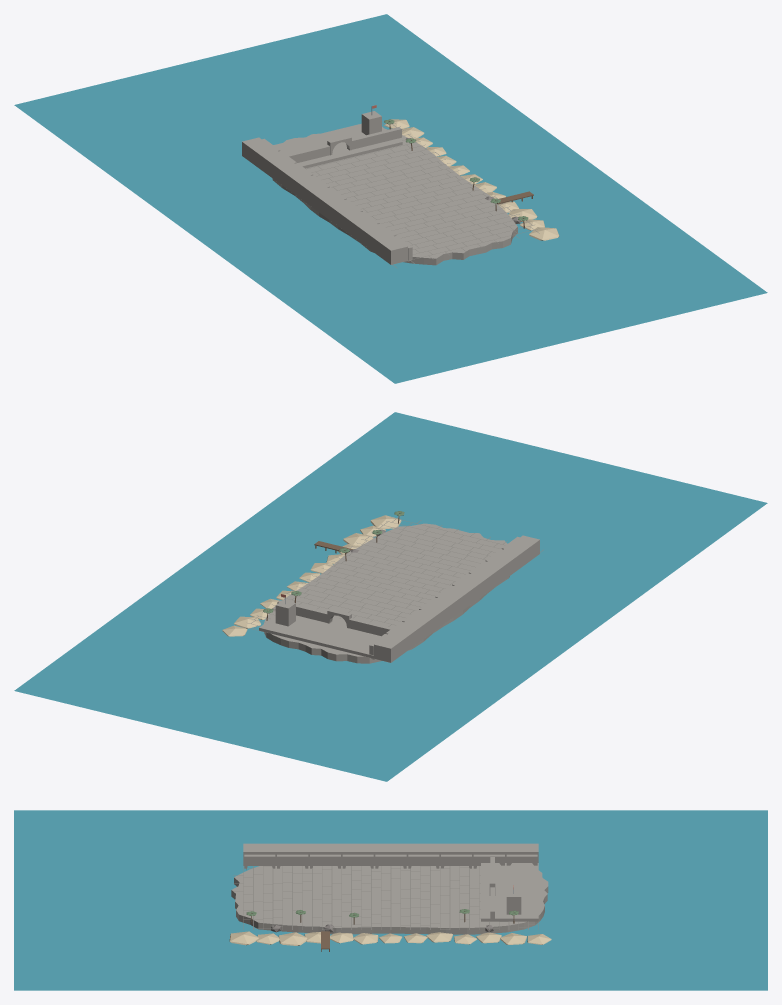
Rendered from breeze.glb.
The picture shows the model from 3 angles, top to bottom: view 1: azimuth 30°, elevation 25°; view 2: azimuth 150°, elevation 25°; view 3: azimuth 270°, elevation 25°; orthographic projection.
Visible parts, largest first — view 1: Static; view 2: Static; view 3: Static.
Part boxes in pixels (x1,y1,x2,y2): Static: (14,14,767,383); Static: (14,412,767,781); Static: (14,810,767,990).
Size of the model in its own units: 52 by 6.4 by 92.
